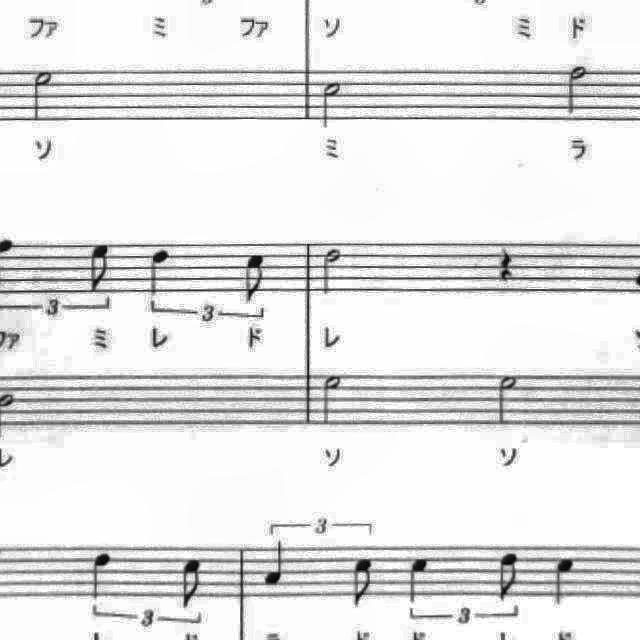Eighth-note: (344, 551, 382, 613), (489, 544, 526, 606), (238, 248, 274, 308), (174, 554, 210, 614), (83, 239, 119, 297)
Half-note: (560, 58, 596, 122), (312, 75, 350, 135), (490, 366, 526, 428), (24, 66, 60, 126), (316, 367, 348, 429), (314, 244, 348, 302)
Quarter-note: (546, 551, 584, 613), (83, 544, 121, 604), (402, 550, 438, 608), (142, 243, 178, 301), (260, 536, 296, 592)
Quarter-rest: (490, 240, 522, 290)
